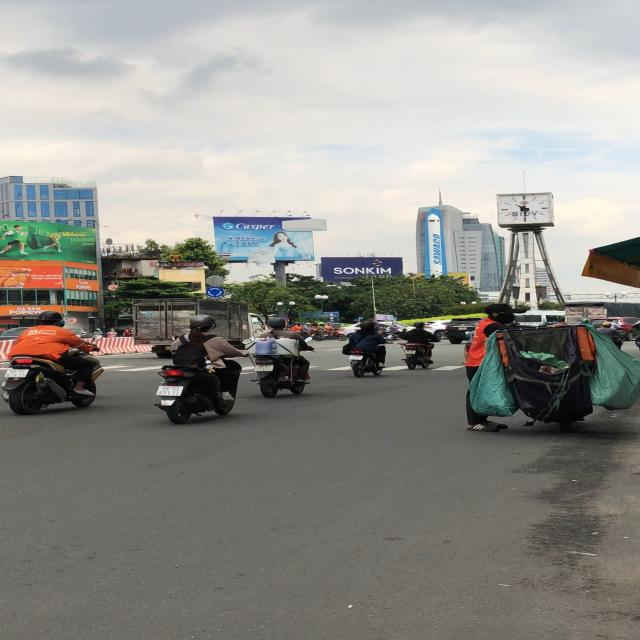Bien bao noi giao nhau chay theo vong xuyen: (206, 286, 225, 298)
